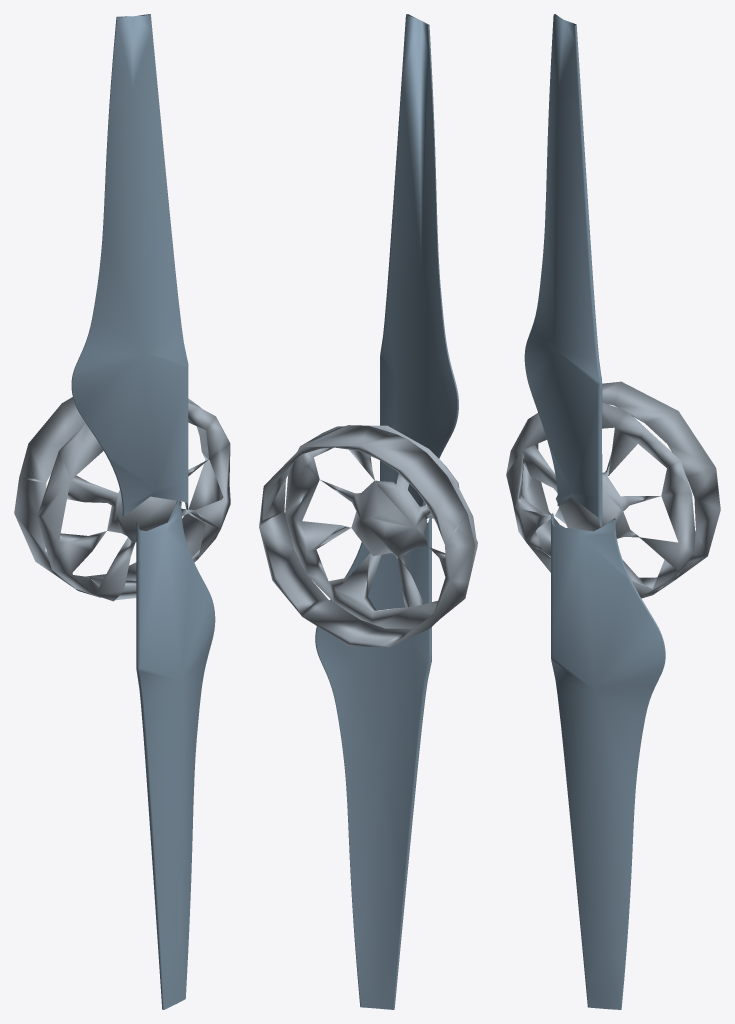
The model's file is px4-x500-rotor-3.glb.
3 renders of one model, left to right at view 1: azimuth 30°, elevation 25°; view 2: azimuth 150°, elevation 25°; view 3: azimuth 330°, elevation 25°, orthographic.
Visible parts, largest first — view 1: rotor_3_visual-0, rotor_3_visual_motor_top-1, rotor_3_visual_motor_top-0; view 2: rotor_3_visual-0, rotor_3_visual_motor_top-0, rotor_3_visual_motor_top-1; view 3: rotor_3_visual-0, rotor_3_visual_motor_top-1, rotor_3_visual_motor_top-0.
Part boxes in pixels (x1,y1,x2,y2): rotor_3_visual-0: (71, 14, 215, 1009); rotor_3_visual_motor_top-1: (37, 402, 230, 601); rotor_3_visual_motor_top-0: (14, 397, 222, 597); rotor_3_visual-0: (315, 14, 458, 1009); rotor_3_visual_motor_top-0: (259, 425, 475, 647); rotor_3_visual_motor_top-1: (285, 425, 477, 628); rotor_3_visual-0: (524, 14, 665, 1009); rotor_3_visual_motor_top-1: (506, 402, 695, 597); rotor_3_visual_motor_top-0: (522, 381, 720, 598).
Bounding box in the file's own units: 0.0593 × 0.2928 × 0.0285.
